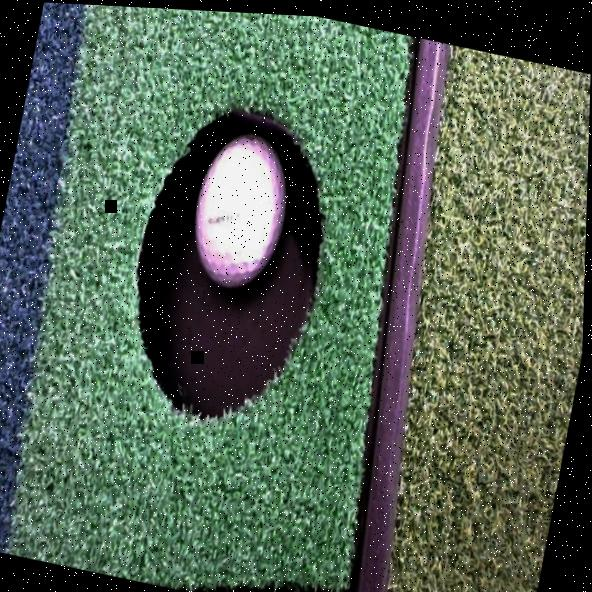GolfBall: (180, 118, 307, 301)
